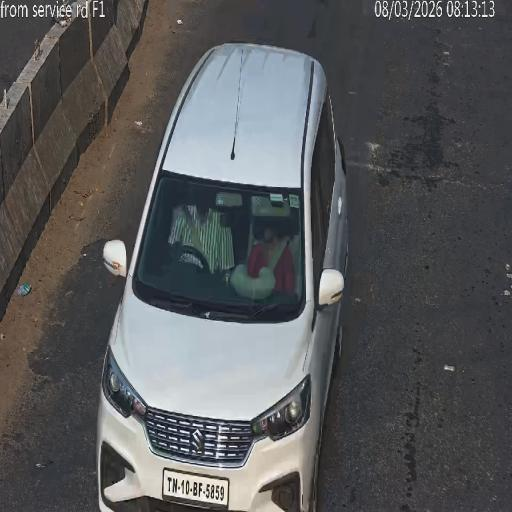person_with_seatbelt: (178, 195, 208, 274)
